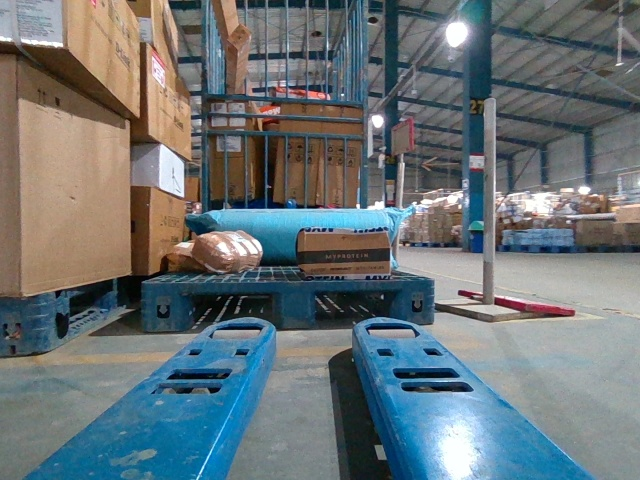block: (142, 282, 185, 332), (276, 281, 320, 329), (399, 278, 431, 322)
front: (144, 278, 433, 327)
hole pallet: (180, 288, 279, 331), (309, 284, 405, 326)
